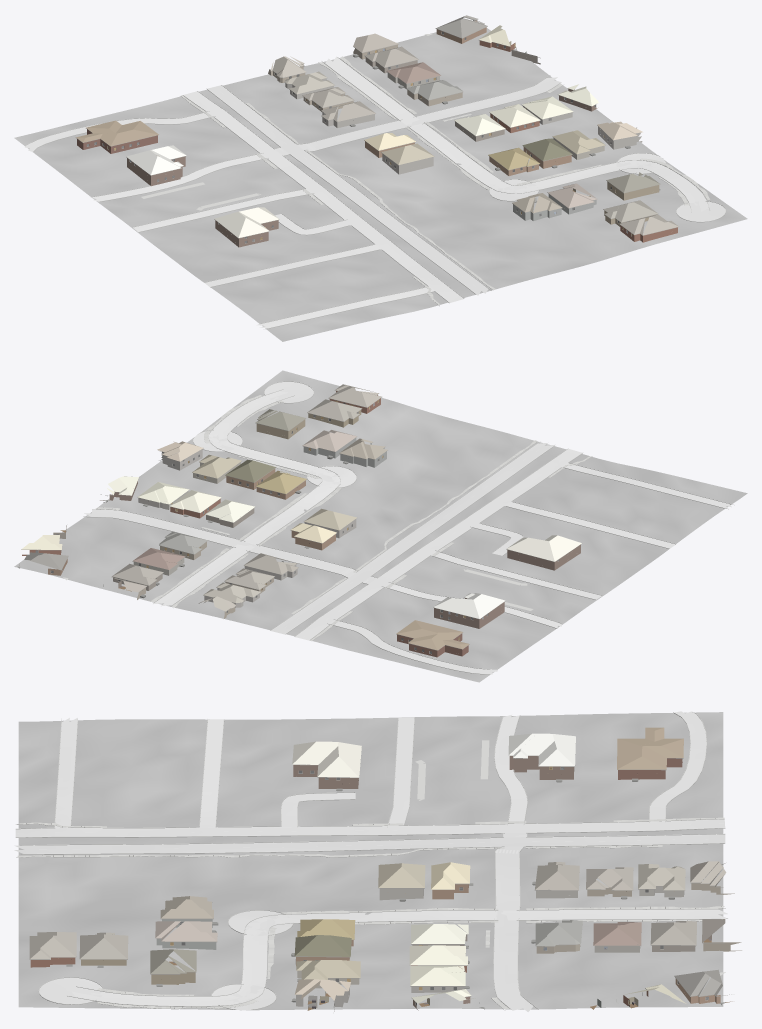
3 views of the same model, one above another, from view 1: azimuth 30°, elevation 25°; view 2: azimuth 150°, elevation 25°; view 3: azimuth 270°, elevation 25° (orthographic). The views are drawn at different scales.
Visible parts, largest first — view 1: ground, roof, concrete, asphalt, wall, curb, walk, detail, wall_stone, wall_stucco; view 2: ground, roof, concrete, asphalt, wall, curb, walk, detail, wall_stone, wall_stucco; view 3: ground, roof, concrete, asphalt, curb, wall, walk, detail, wall_stone, wall_stucco, mark_w, mark_y (+1 smaller).
Boxes of the visible parts, box(x1,y1,x2,y2) form: ground: box(14, 28, 747, 341); roof: box(76, 15, 678, 237); concrete: box(25, 56, 725, 328); asphalt: box(184, 85, 488, 302); wall: box(77, 20, 677, 247); curb: box(25, 57, 725, 329); walk: box(141, 34, 709, 304); detail: box(76, 19, 678, 243); wall_stone: box(285, 78, 642, 174); wall_stucco: box(387, 72, 604, 221); ground: box(14, 370, 747, 682); roof: box(21, 384, 581, 650); concrete: box(84, 382, 731, 674); asphalt: box(271, 442, 581, 640); wall: box(22, 391, 580, 657); curb: box(83, 381, 732, 674); walk: box(63, 395, 590, 640); detail: box(17, 390, 581, 654); wall_stone: box(138, 449, 356, 607); wall_stucco: box(133, 438, 386, 575); ground: box(18, 712, 723, 1010); roof: box(29, 727, 726, 1003); concrete: box(39, 711, 728, 1011); asphalt: box(14, 819, 725, 853); curb: box(15, 712, 727, 1010); wall: box(30, 756, 741, 1010); walk: box(17, 740, 725, 1009); detail: box(29, 743, 731, 1009); wall_stone: box(296, 886, 684, 1011); wall_stucco: box(156, 919, 640, 988); mark_w: box(16, 819, 724, 853); mark_y: box(24, 827, 724, 845).
Bounding box in the file's own units: 257 × 13.99 × 260.
